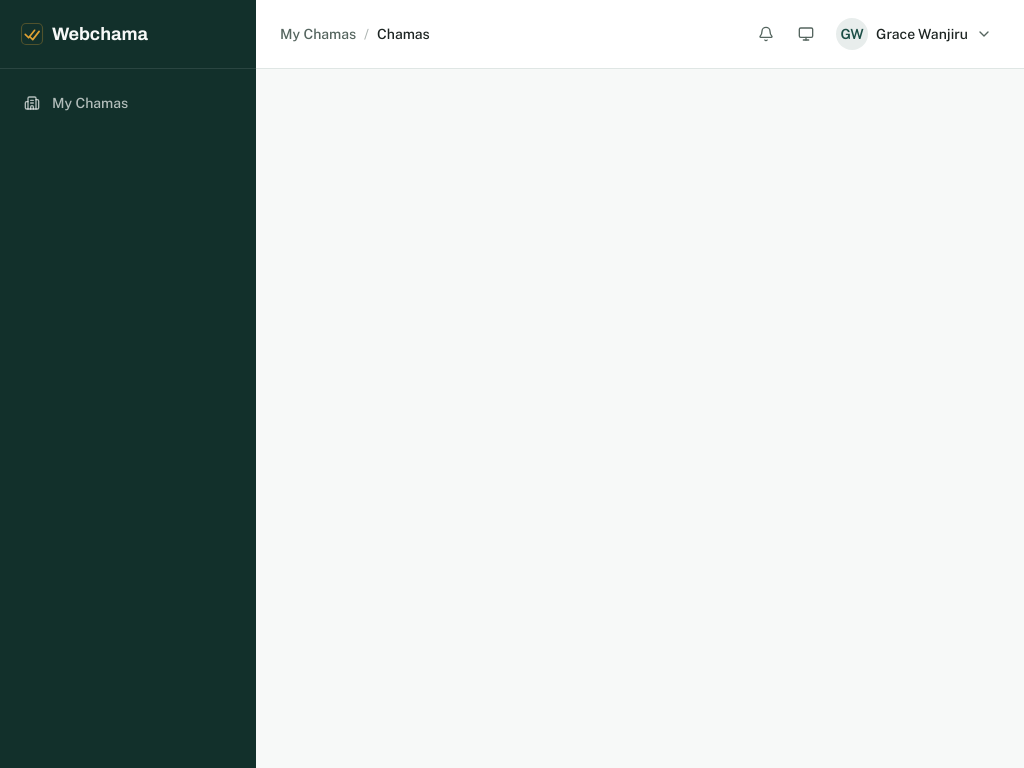
StaffLayout › closes the account menu on navigation rather than leaving it over the next page
What coordinates should you click on to do the following:
click the button with aria-label "account menu"
I would click on:
 (914, 34)
Its box is [828,12,1000,56].
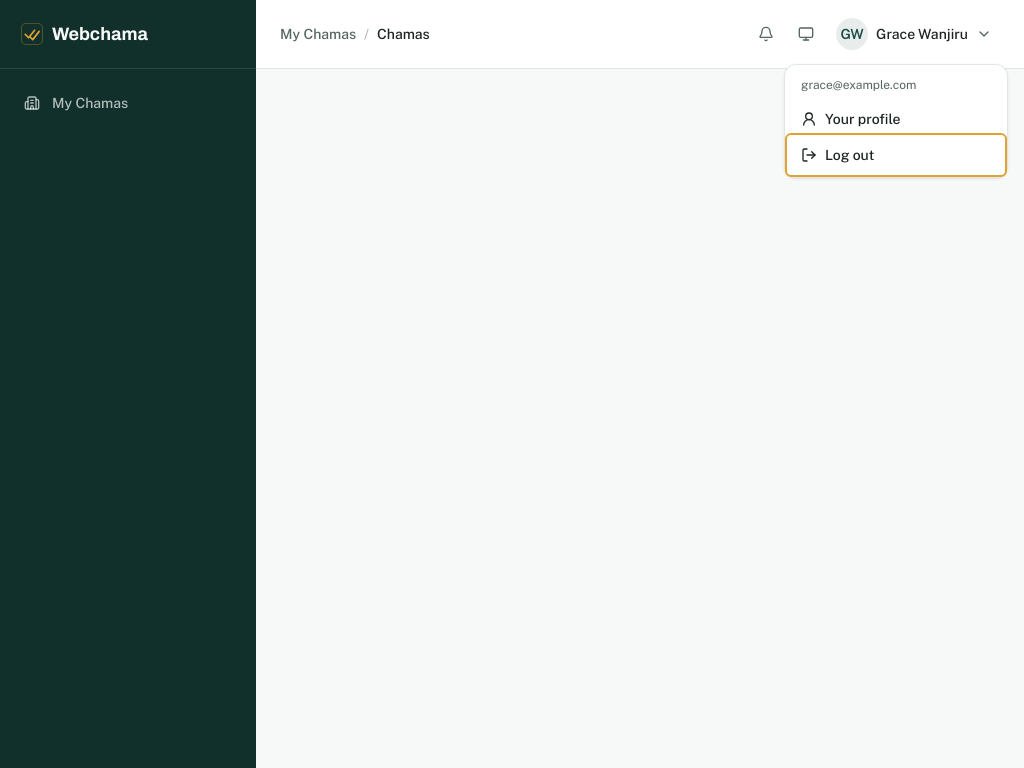
What coordinates should you click on to do the following:
click the link "Your profile"
I would click on:
 (851, 119)
Its box is [801,111,900,127].
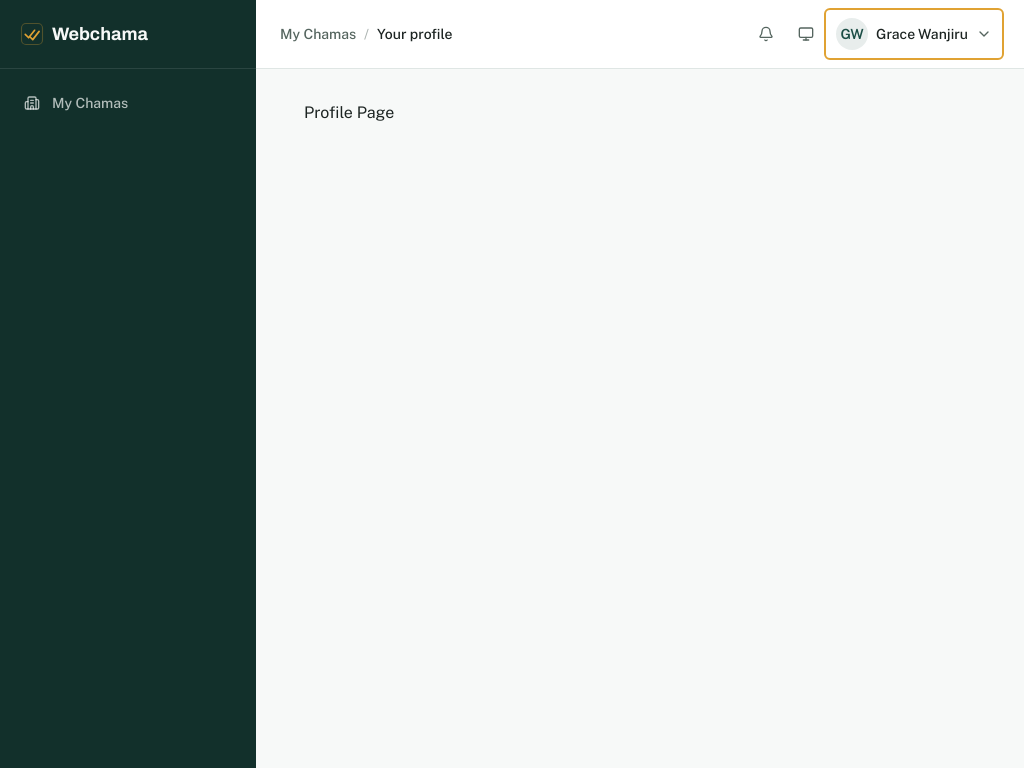
Check: the text "Profile Page" is shown, box [304,103,394,122]
